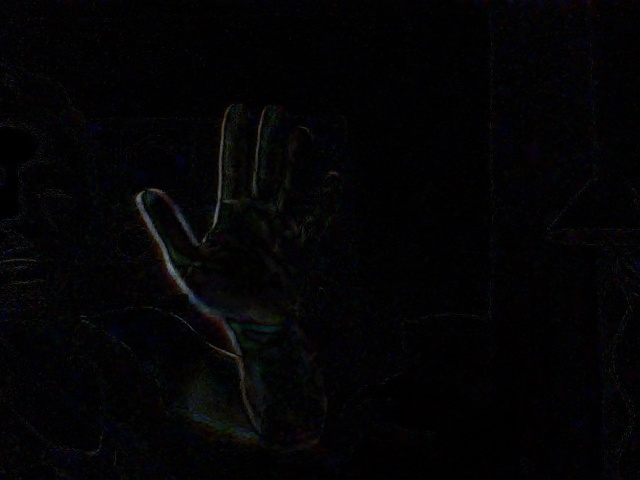hand_pa: (134, 75, 358, 356)
